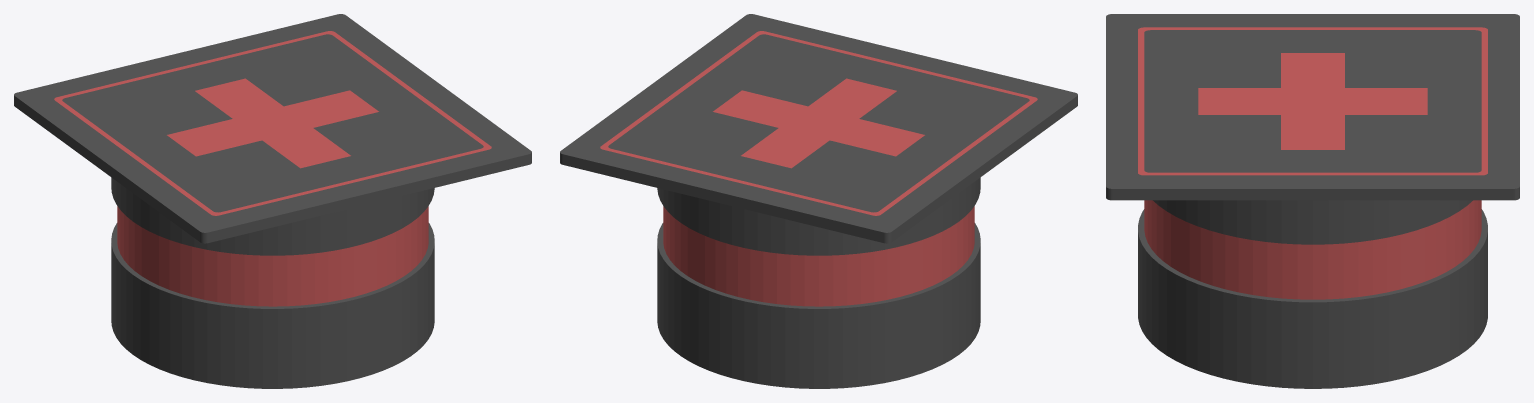
File: bomboniera-medicina-facolta-montato.glb
The picture shows the model from 3 angles, left to right: view 1: azimuth 30°, elevation 25°; view 2: azimuth 150°, elevation 25°; view 3: azimuth 270°, elevation 25°; orthographic projection. The views are drawn at different scales.
Visible parts, largest first — view 1: struttura_coperchio, struttura_base, fascia, simbolo_intarsio, bordo; view 2: struttura_coperchio, struttura_base, fascia, simbolo_intarsio, bordo; view 3: struttura_coperchio, struttura_base, fascia, simbolo_intarsio, bordo.
Boxes of the visible parts, bbox=[...] form: struttura_coperchio: bbox=[14, 14, 531, 255]; struttura_base: bbox=[111, 223, 434, 388]; fascia: bbox=[117, 206, 428, 306]; simbolo_intarsio: bbox=[167, 78, 378, 168]; bordo: bbox=[54, 31, 491, 215]; struttura_coperchio: bbox=[560, 14, 1077, 255]; struttura_base: bbox=[657, 223, 980, 388]; fascia: bbox=[663, 206, 974, 306]; simbolo_intarsio: bbox=[713, 78, 924, 168]; bordo: bbox=[600, 31, 1037, 215]; struttura_coperchio: bbox=[1106, 14, 1519, 244]; struttura_base: bbox=[1138, 209, 1487, 388]; fascia: bbox=[1144, 200, 1481, 299]; simbolo_intarsio: bbox=[1198, 53, 1427, 149]; bordo: bbox=[1138, 27, 1487, 175].
Size of the model in its own units: 0.065 by 0.037 by 0.065.
